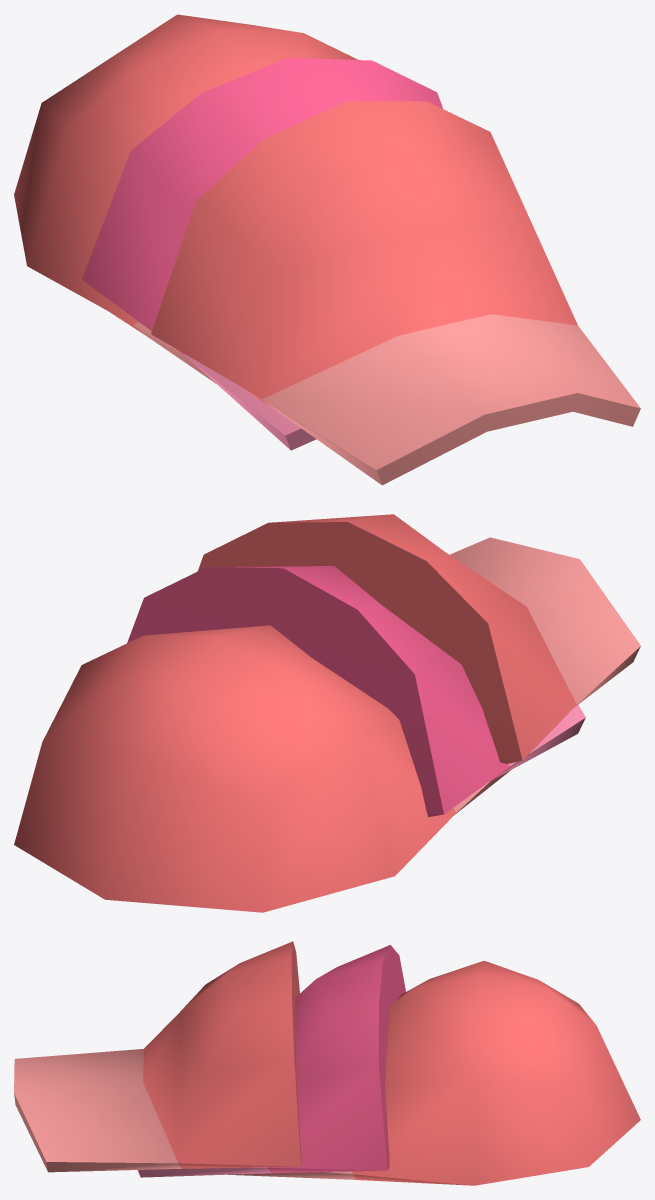
The model's file is clothes_019.glb.
The picture shows the model from 3 angles, top to bottom: view 1: azimuth 30°, elevation 25°; view 2: azimuth 150°, elevation 25°; view 3: azimuth 270°, elevation 25°; orthographic projection. The views are drawn at different scales.
Parts seen in each view (by area): view 1: clothes_019; view 2: clothes_019; view 3: clothes_019.
Boxes of the visible parts, <box> form: clothes_019: <box>14,14,640,485</box>; clothes_019: <box>14,514,640,912</box>; clothes_019: <box>14,941,640,1185</box>.
Size of the model in its own units: 0.2523 by 0.1601 by 0.4938.
1 material, 1 textured.
